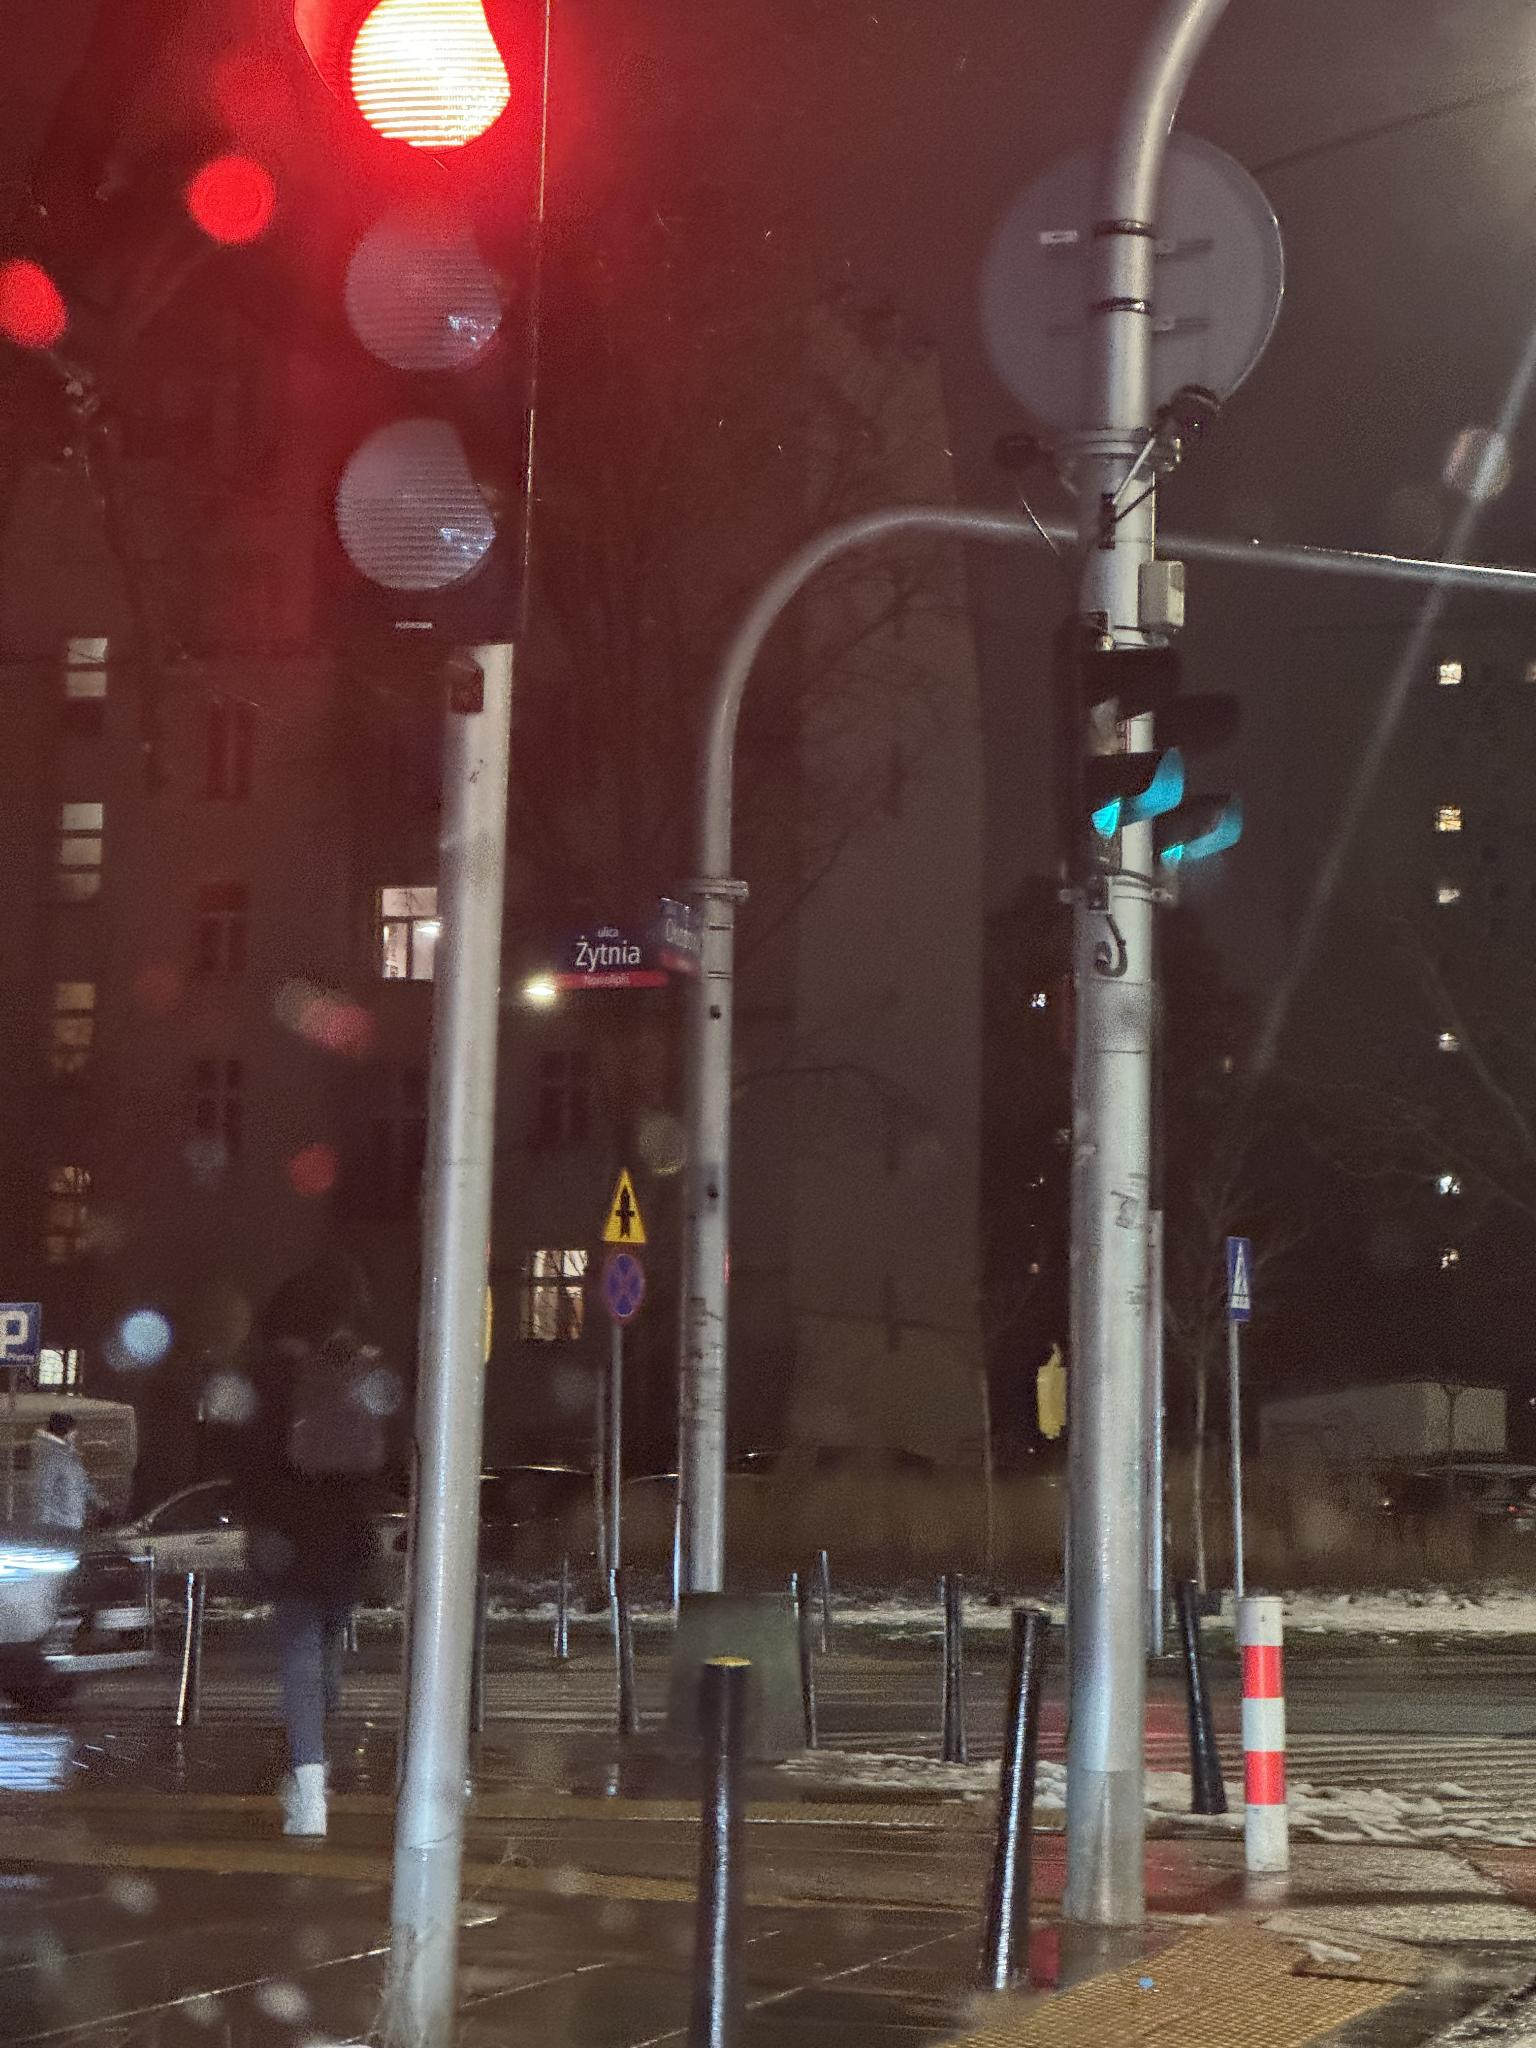information: (0, 1300, 42, 1367), (1226, 1234, 1255, 1321)
prohibitory: (600, 1253, 649, 1326)
warning: (600, 1164, 650, 1248)
